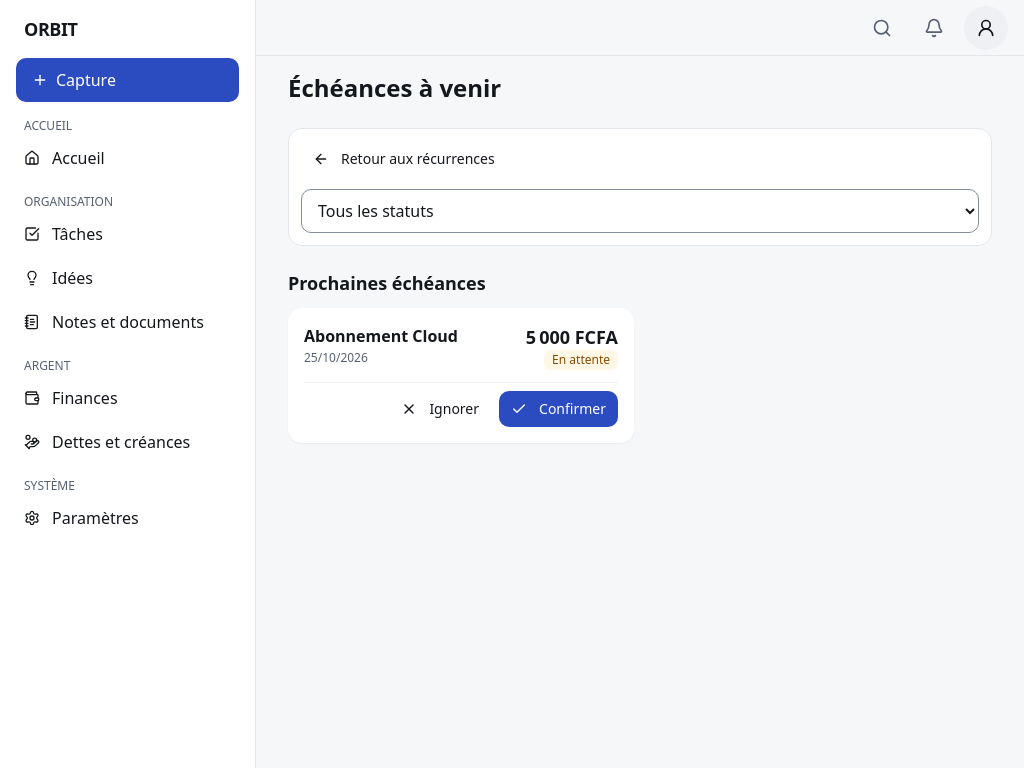
Test: Finance - À venir (/finance/upcoming) › allows skipping an occurrence with a skip dialog
Expected: the heading "Échéances à venir" is shown, [288, 72, 501, 104]
What coordinates should you click on to do the following:
click the button "Ignorer"
I would click on:
 (440, 409)
Its box is [389, 391, 491, 427].
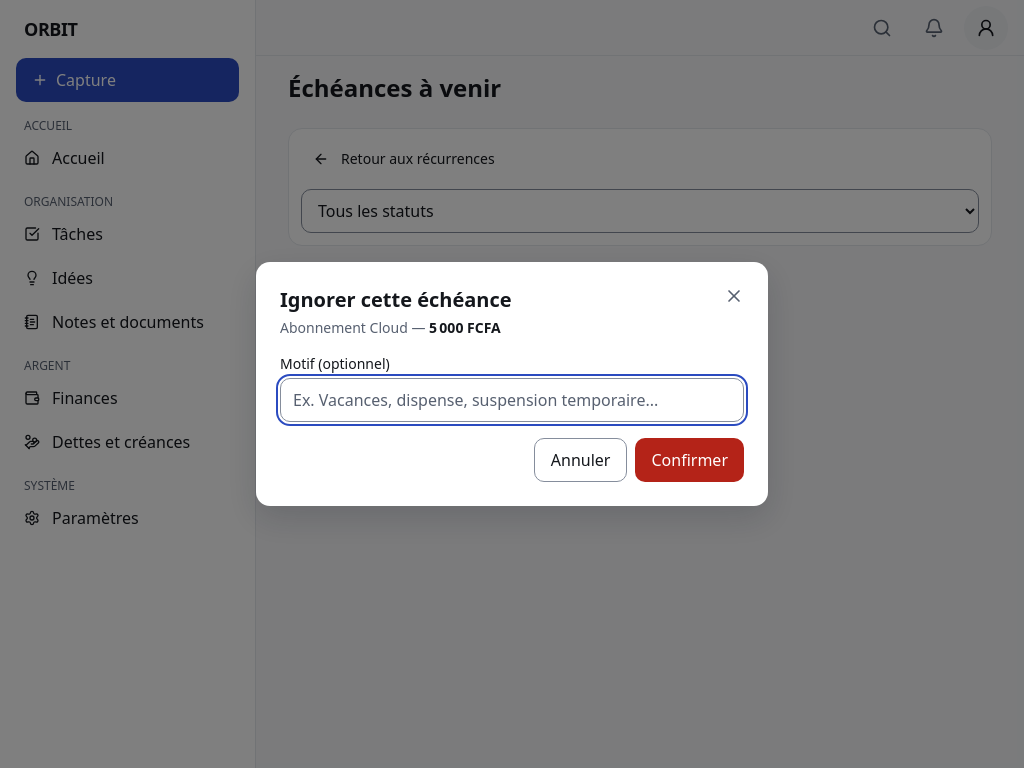
Expected: the heading "Ignorer cette échéance" is shown, [280, 286, 512, 313]
What coordinates should you click on to do the following:
click the button "Confirmer"
I would click on:
 (690, 460)
Its box is [636, 438, 744, 482].
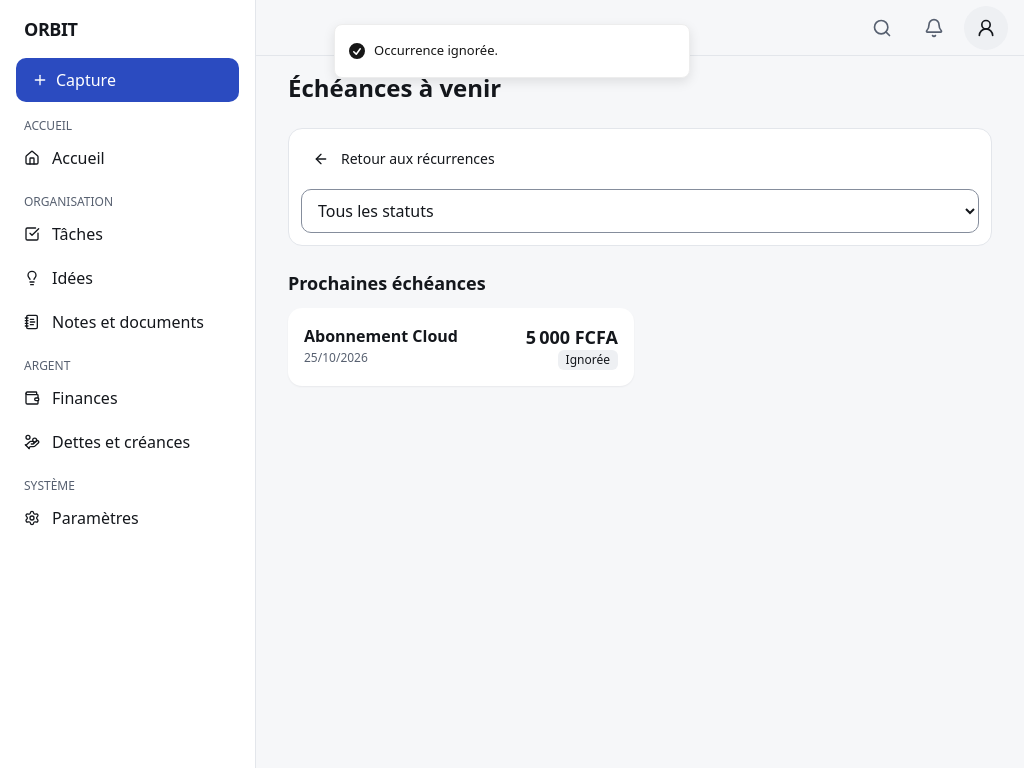
Expected: the heading "Ignorer cette échéance" is gone
